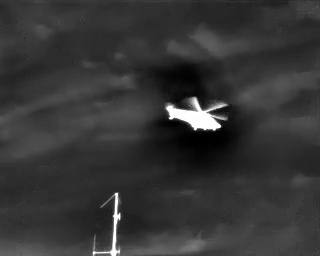HELICOPTER: (162, 91, 233, 138)
